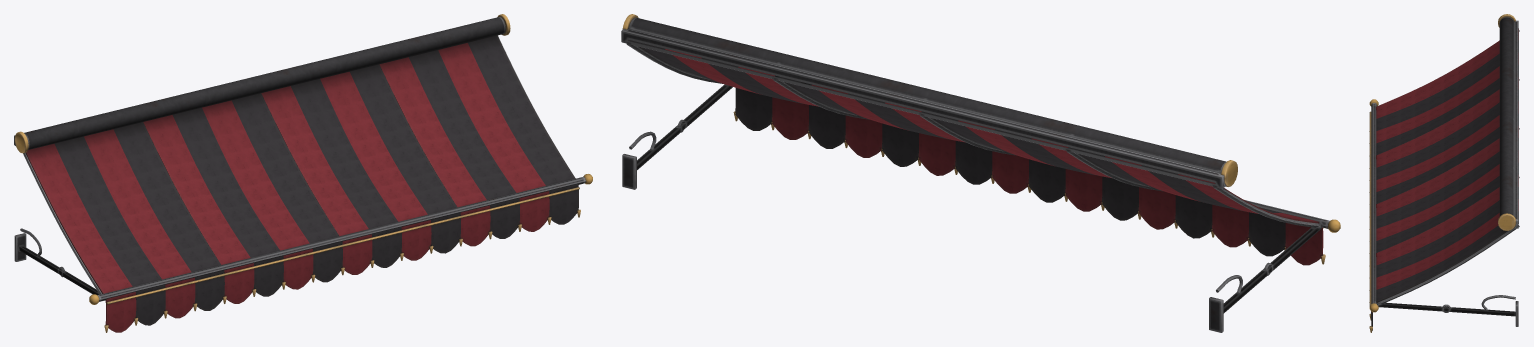
File: ShopAwning.fbx
3 renders of one model, left to right at view 1: azimuth 30°, elevation 25°; view 2: azimuth 150°, elevation 25°; view 3: azimuth 270°, elevation 25°, orthographic. The views are drawn at different scales.
Parts seen in each view (by area): view 1: ShopAwning_Main, ShopAwning_Cloth; view 2: ShopAwning_Main, ShopAwning_Cloth; view 3: ShopAwning_Main, ShopAwning_Cloth.
Part boxes in pixels (x1,y1,x2,y2): ShopAwning_Main: (14,14,592,304); ShopAwning_Cloth: (104,183,580,332); ShopAwning_Main: (621,14,1340,332); ShopAwning_Cloth: (733,88,1325,265); ShopAwning_Main: (1369,14,1519,326); ShopAwning_Cloth: (1369,111,1372,332).
Size of the model in its own units: 850 by 237 by 260.
